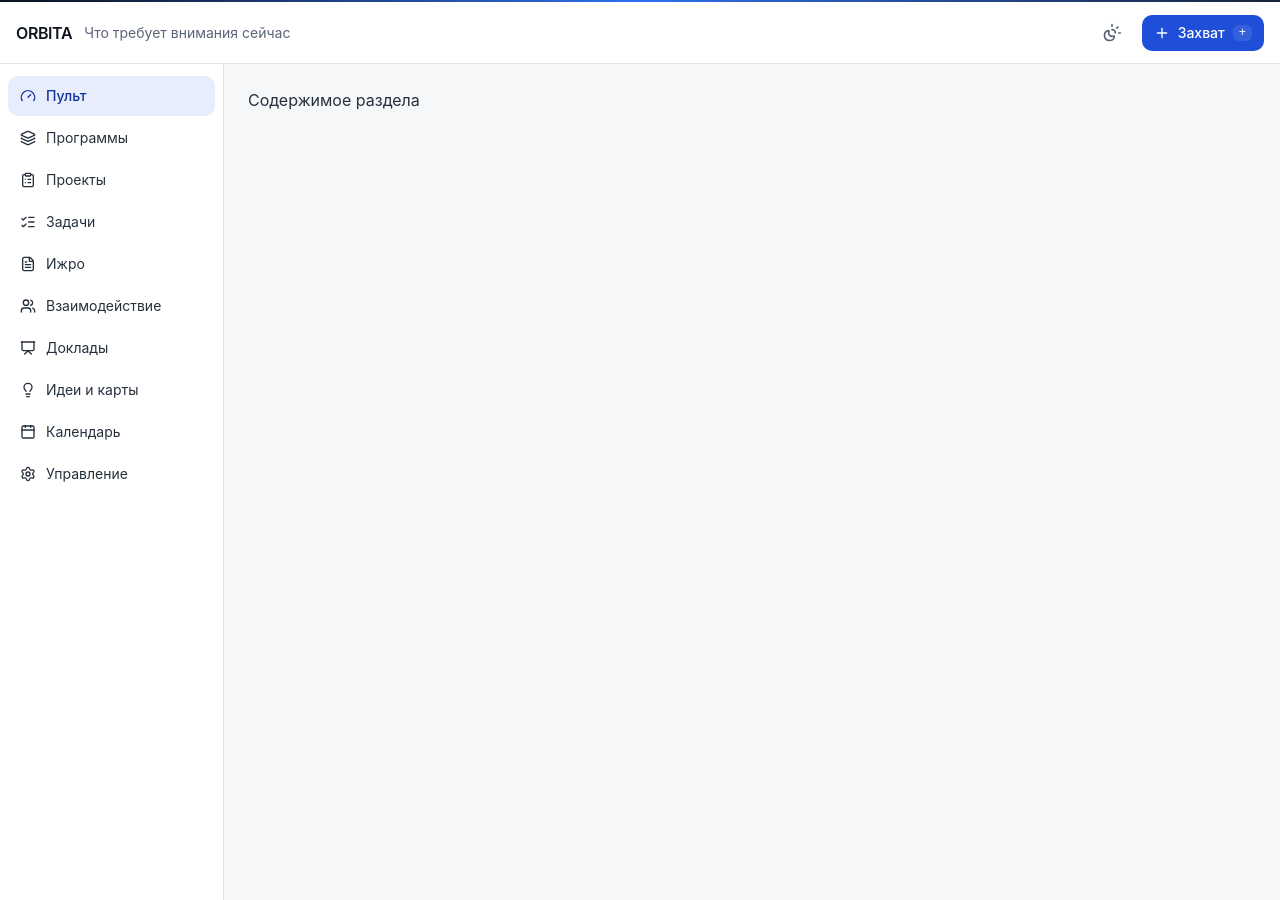
it: язык интерфейса › выбор в меню переключает интерфейс сразу, сохраняет язык и перечитывает экран
Click the button named "Тема:" at (1112, 32), box [1090, 10, 1134, 54]
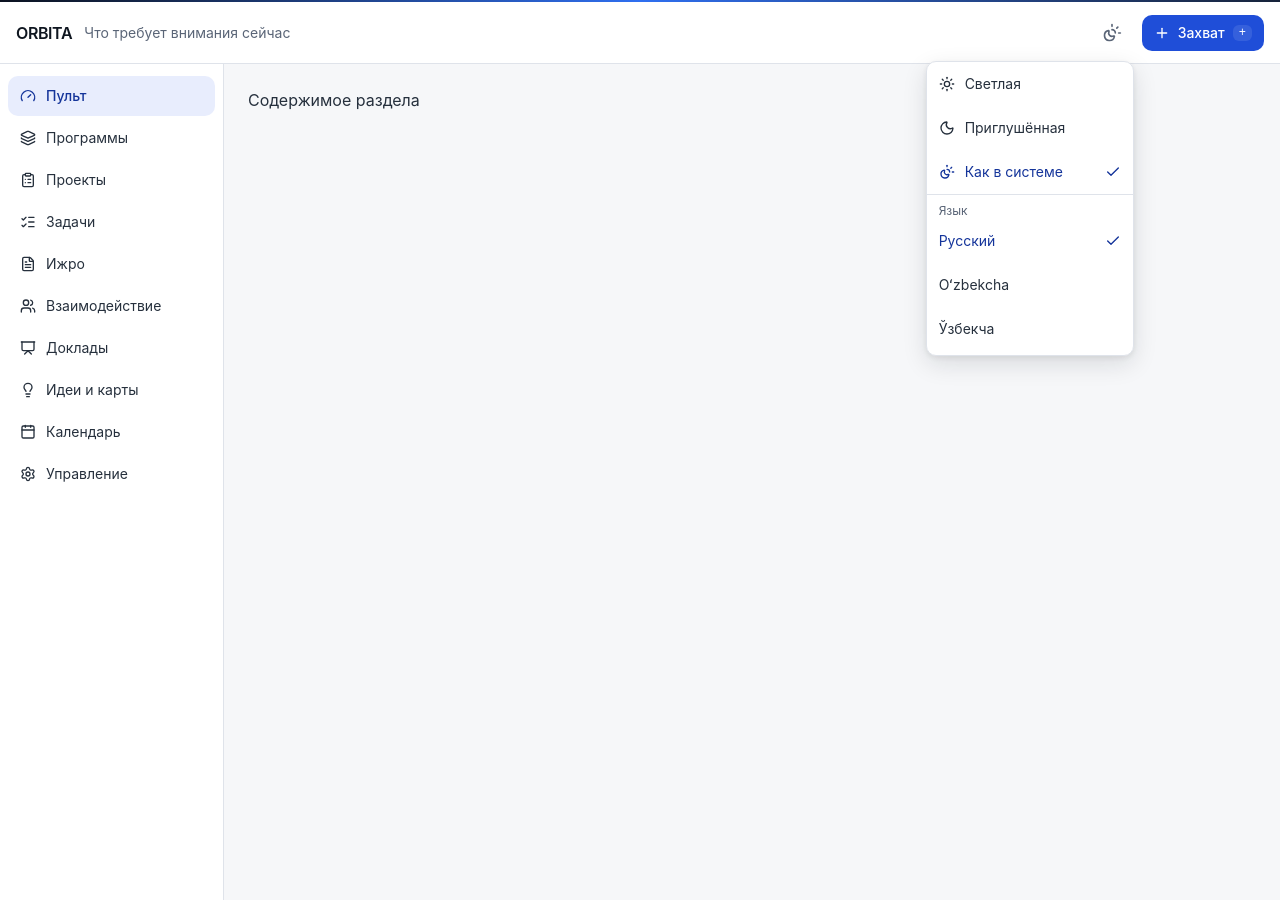
Click the menu item "Oʻzbekcha" at (1030, 284), box [927, 262, 1133, 306]
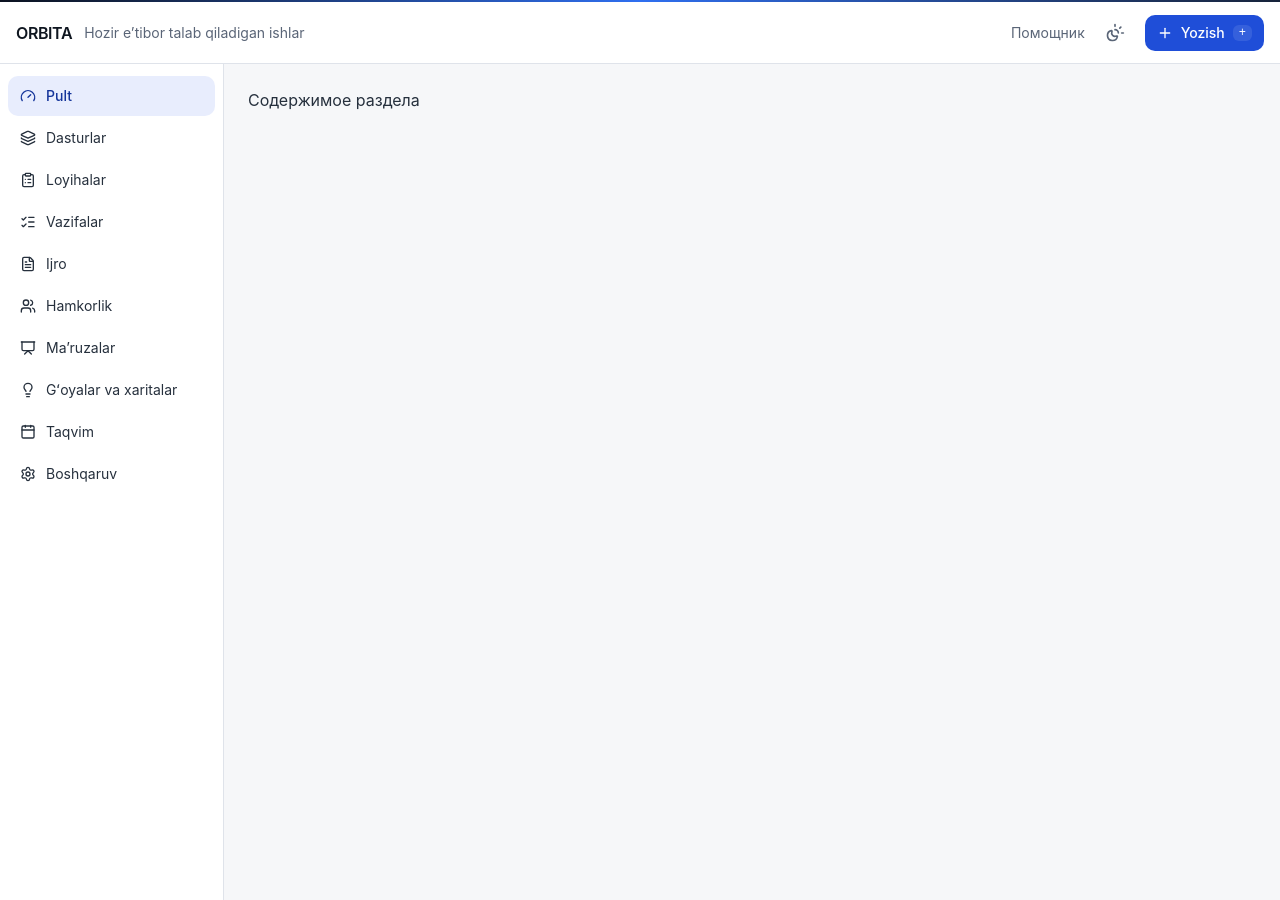
Check: the link "Loyihalar" is shown, box [20, 171, 106, 188]
